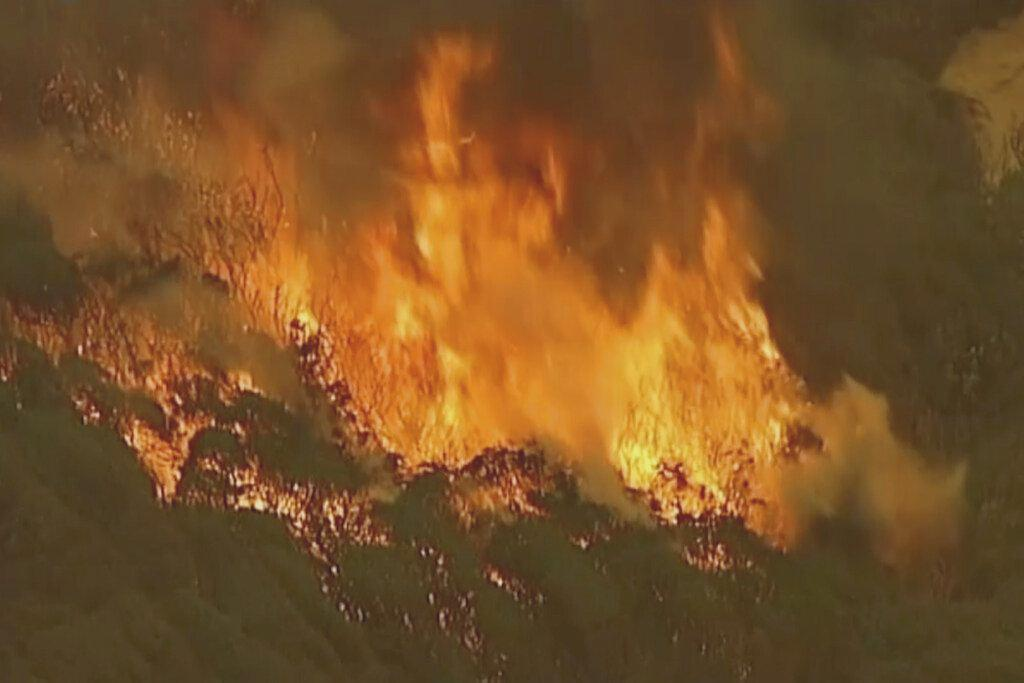Fire: (9, 14, 818, 608)
